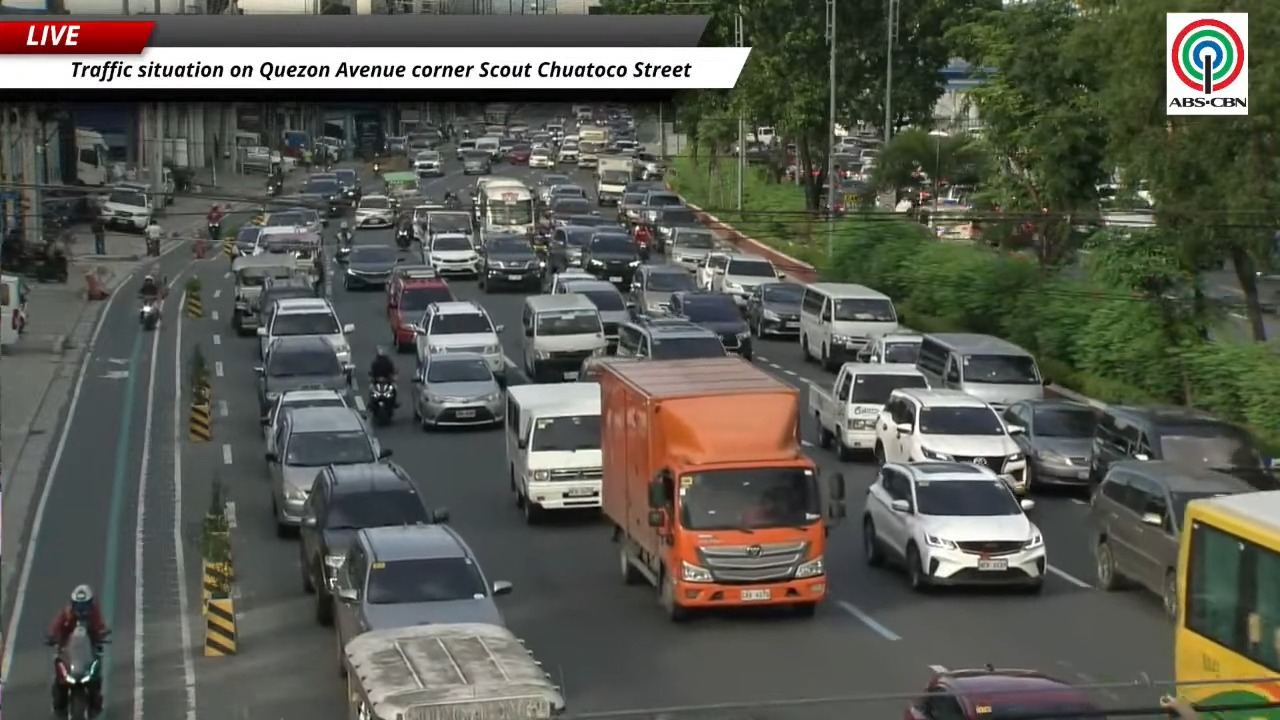bus: (1175, 491, 1279, 719)
car: (1090, 460, 1253, 619), (299, 462, 447, 625), (861, 461, 1046, 591), (333, 524, 511, 647), (265, 407, 390, 536), (874, 388, 1025, 493), (1090, 405, 1276, 489), (903, 665, 1107, 719), (1002, 399, 1098, 491), (255, 336, 353, 415), (416, 301, 505, 380), (413, 352, 504, 429), (257, 298, 354, 363), (261, 389, 362, 451), (669, 291, 752, 359), (387, 271, 455, 351), (556, 278, 629, 352), (616, 317, 726, 359), (479, 234, 544, 292), (712, 254, 781, 306), (628, 264, 697, 315), (582, 231, 641, 289), (745, 282, 803, 337), (254, 276, 316, 326), (646, 206, 704, 251), (343, 244, 399, 289), (423, 233, 479, 276), (100, 187, 153, 232), (665, 226, 715, 272), (856, 331, 922, 365), (548, 224, 594, 272), (298, 174, 345, 217), (386, 262, 438, 300), (419, 209, 475, 243), (695, 250, 739, 290), (641, 184, 685, 222), (545, 196, 591, 230), (354, 195, 396, 228), (547, 268, 596, 293), (566, 214, 627, 233), (535, 173, 572, 203), (334, 168, 363, 204), (234, 225, 261, 256), (617, 192, 644, 222), (413, 150, 443, 176), (463, 150, 491, 174), (549, 183, 587, 200), (557, 137, 578, 164), (528, 147, 554, 168), (497, 134, 521, 156), (506, 143, 532, 163), (456, 138, 475, 160)
motorcycle: (55, 625, 102, 719), (368, 378, 396, 425), (139, 298, 159, 330), (335, 230, 352, 261), (395, 226, 412, 250), (146, 237, 160, 256), (207, 222, 220, 242), (444, 195, 461, 209), (266, 183, 278, 196), (372, 161, 380, 173)
truck: (597, 357, 845, 621), (340, 623, 564, 719), (808, 362, 928, 460), (75, 127, 110, 185), (597, 155, 633, 205), (577, 125, 607, 167)
